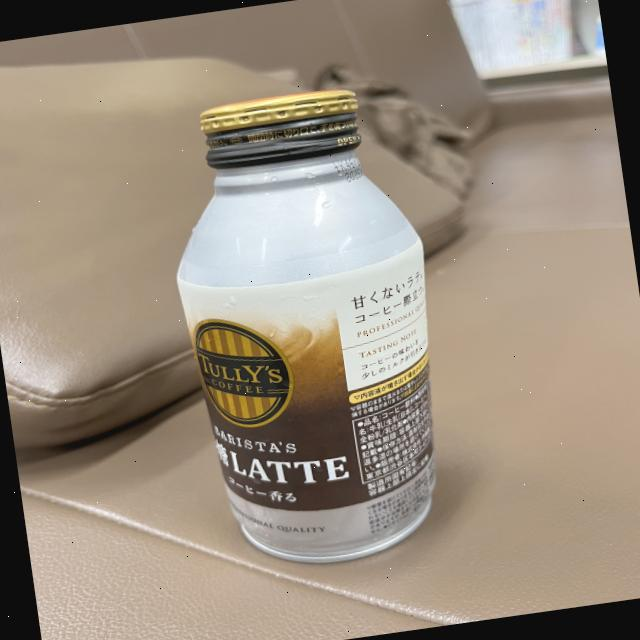coffee-latte: (152, 76, 472, 577)
